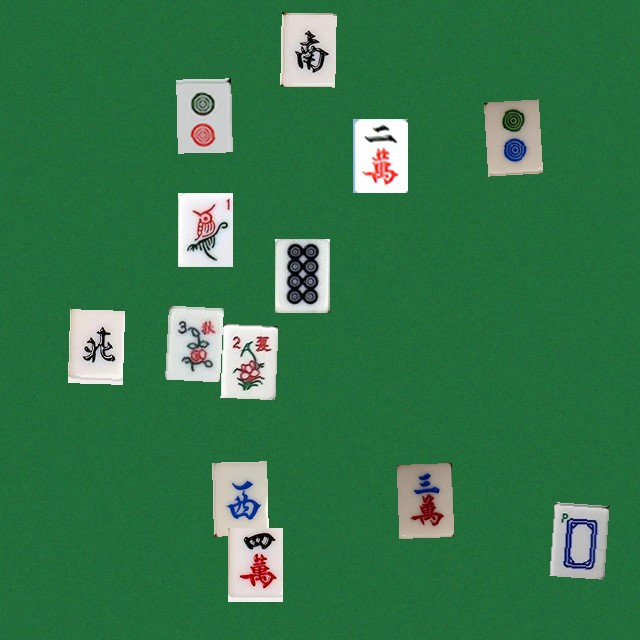tile: (352, 118, 407, 192), (212, 461, 267, 535), (177, 192, 232, 266), (165, 305, 220, 379), (483, 99, 538, 173), (396, 462, 451, 536), (280, 12, 335, 86), (274, 238, 329, 312), (220, 323, 275, 397), (227, 527, 282, 601), (549, 502, 604, 576), (67, 309, 122, 383), (176, 78, 231, 152)
